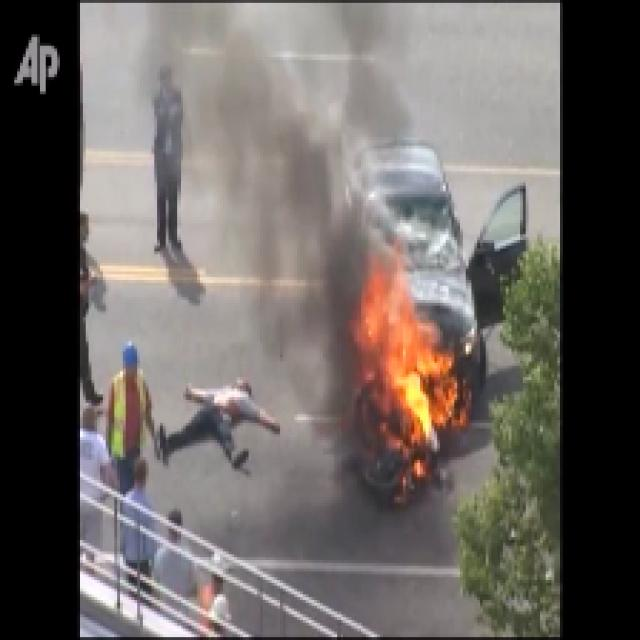fire: (360, 302, 455, 454)
smoke: (306, 176, 368, 299)
